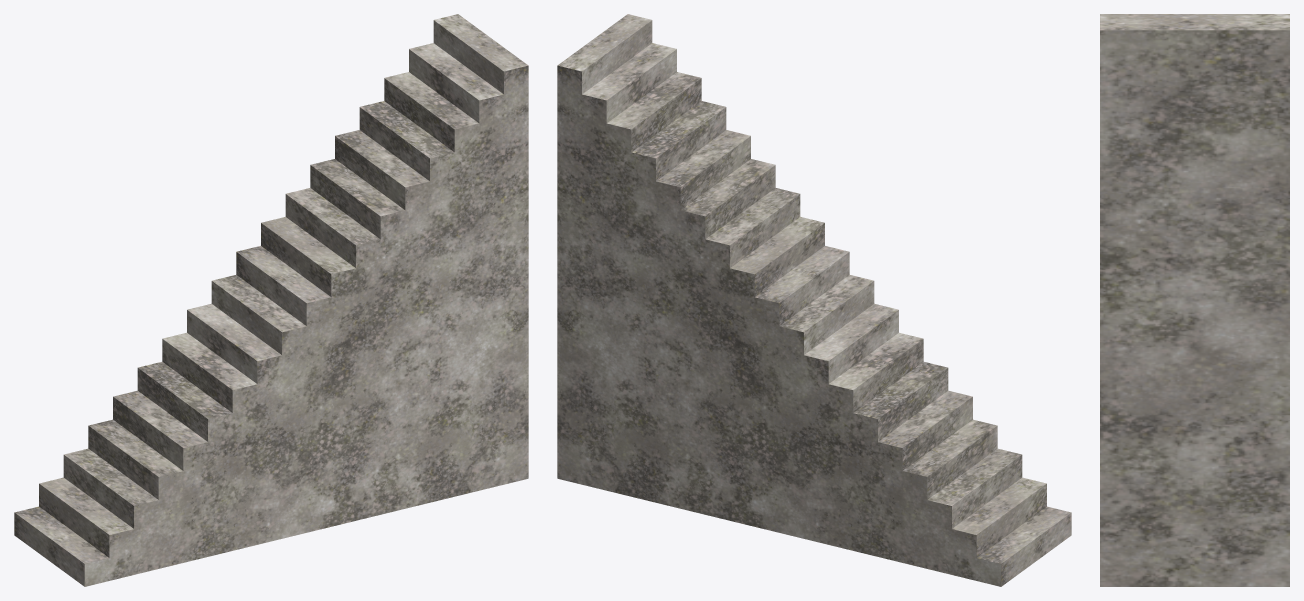
The model's file is Stairs.FBX.
The picture shows the model from 3 angles, left to right: view 1: azimuth 30°, elevation 25°; view 2: azimuth 150°, elevation 25°; view 3: azimuth 270°, elevation 25°; orthographic projection. The views are drawn at different scales.
Visible parts, largest first — view 1: Stairs; view 2: Stairs; view 3: Stairs.
Part boxes in pixels (x1,y1,x2,y2): Stairs: (14,14,528,586); Stairs: (557,14,1071,586); Stairs: (1100,14,1289,586).
Bounding box in the file's own units: 29451 × 26202 × 8094.
Materials: 1 (1 with a texture image).
